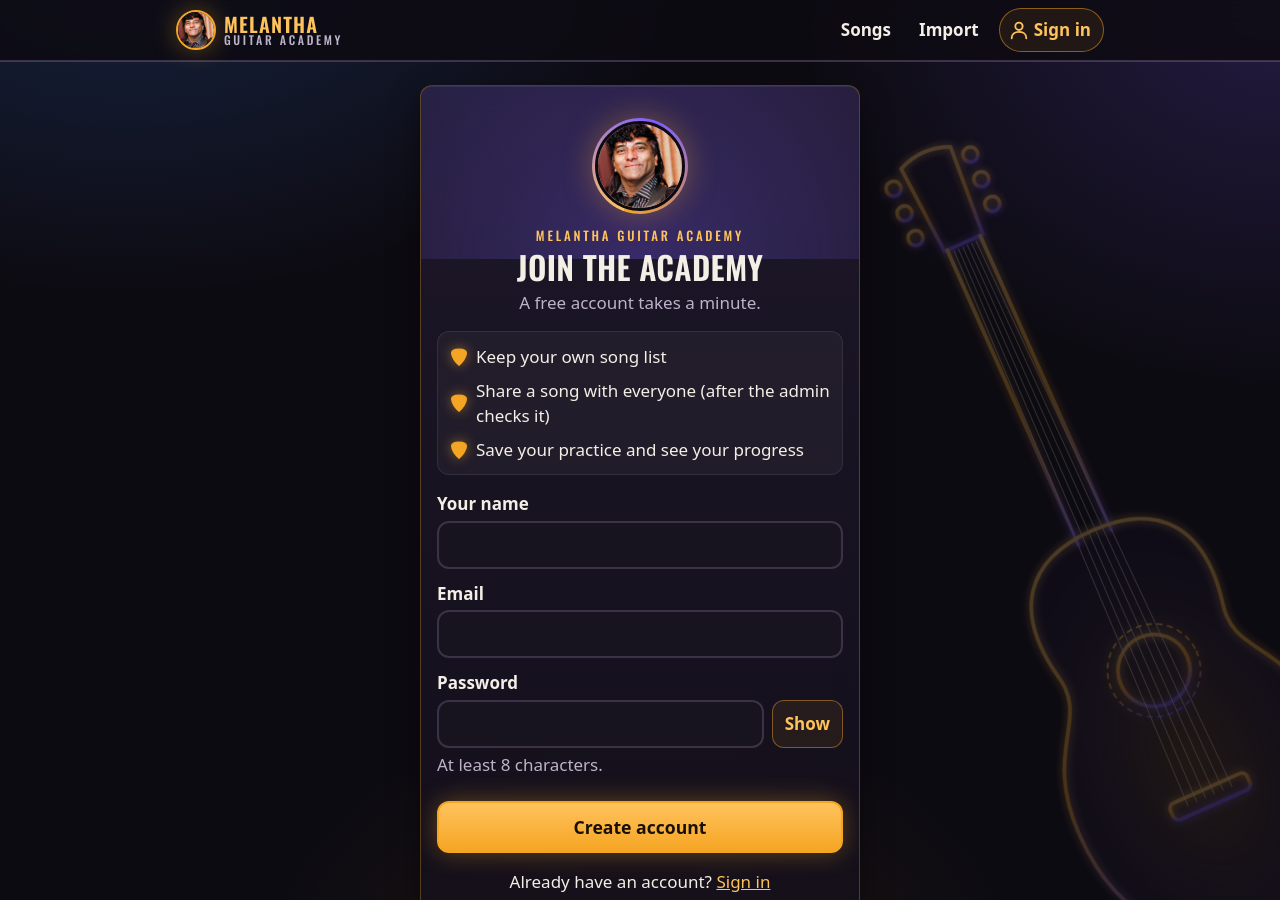
accounts › an email that already has an account: says so and offers Sign in
The image size is (1280, 900).
Type "Isura" into the field labelled "Your name" at (640, 545), box [437, 521, 843, 569]
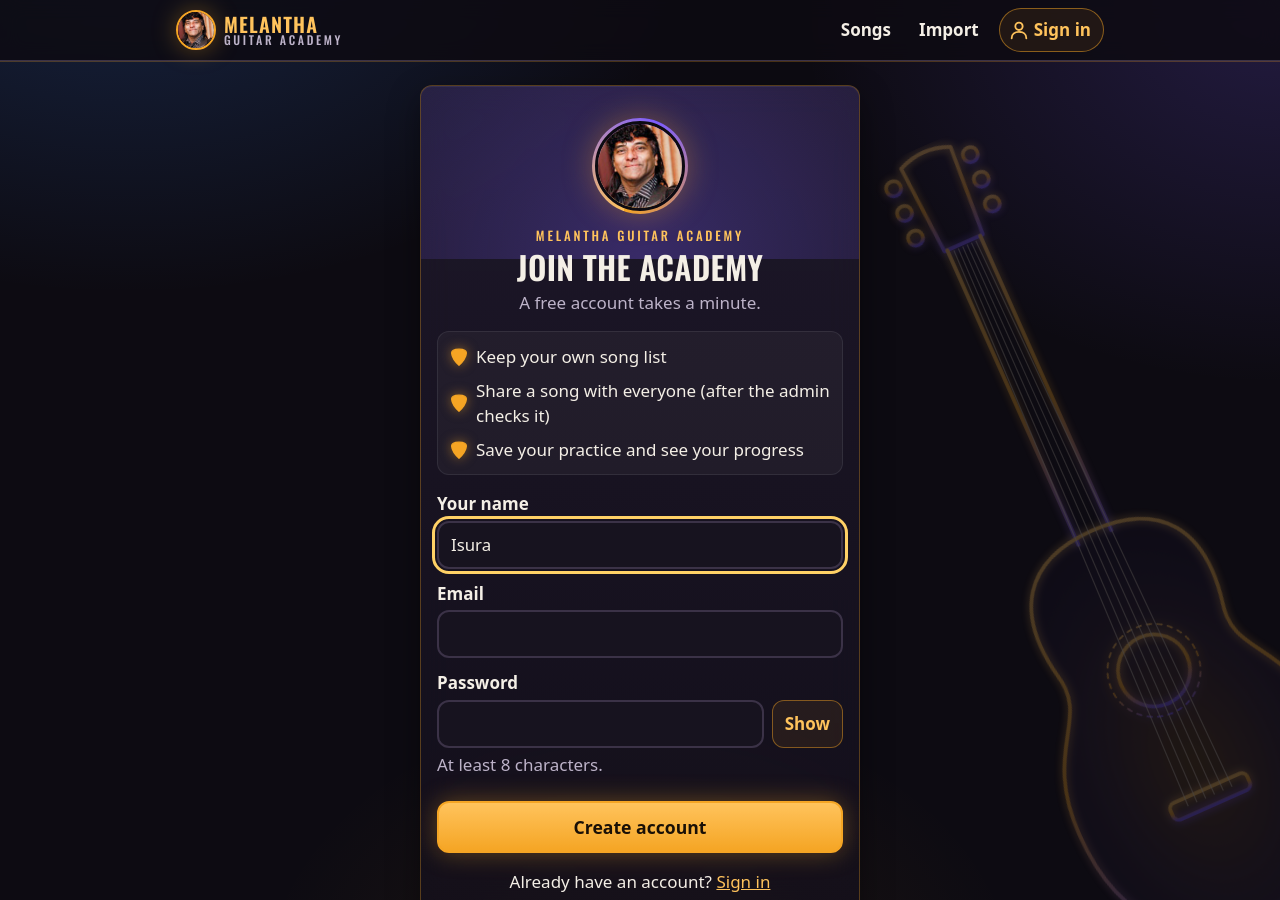
Type "isura@example.com" into the field labelled "Email" at (640, 634), box [437, 610, 843, 658]
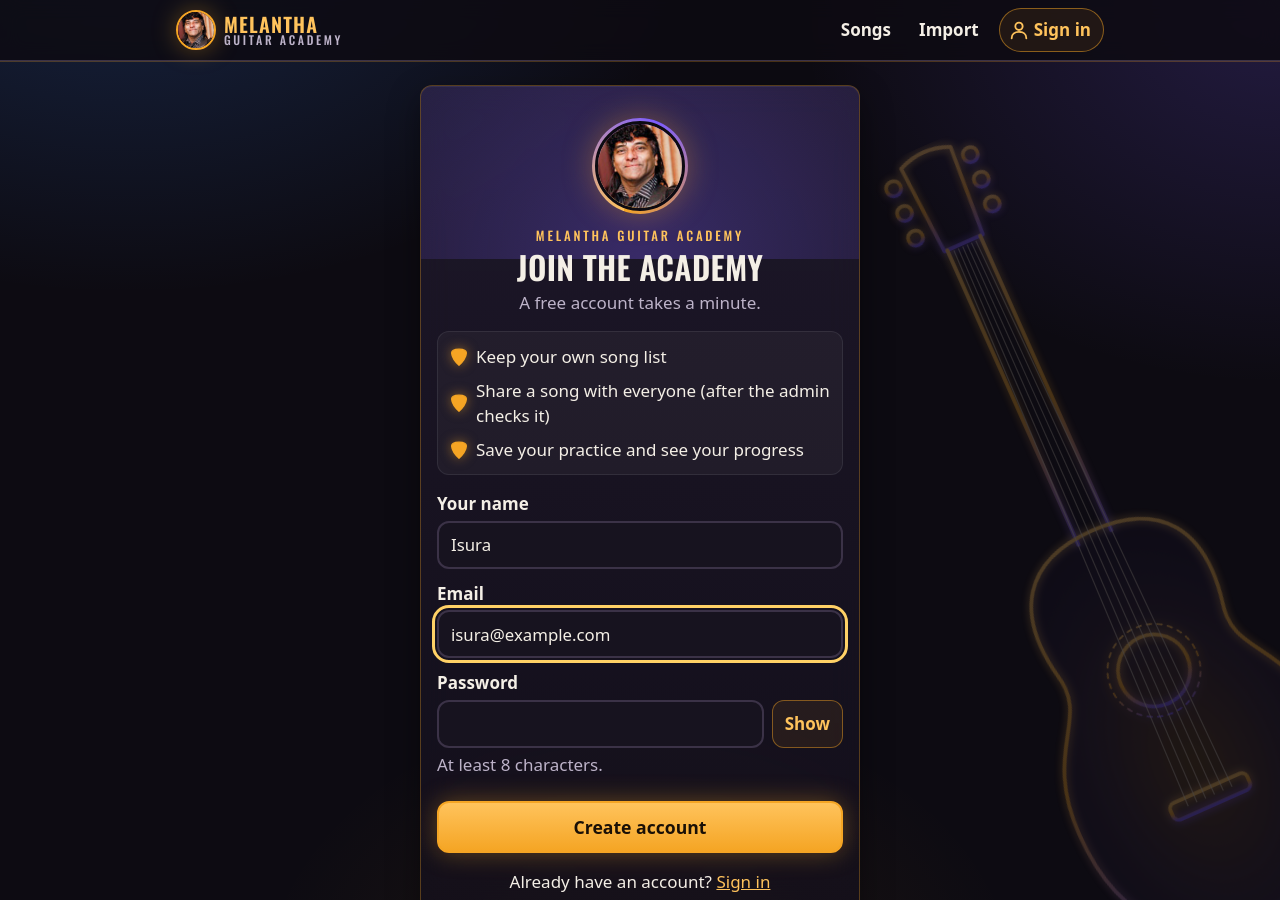
Type "guitar-123" into the password field labelled "Password" at (600, 724), box [437, 700, 764, 748]
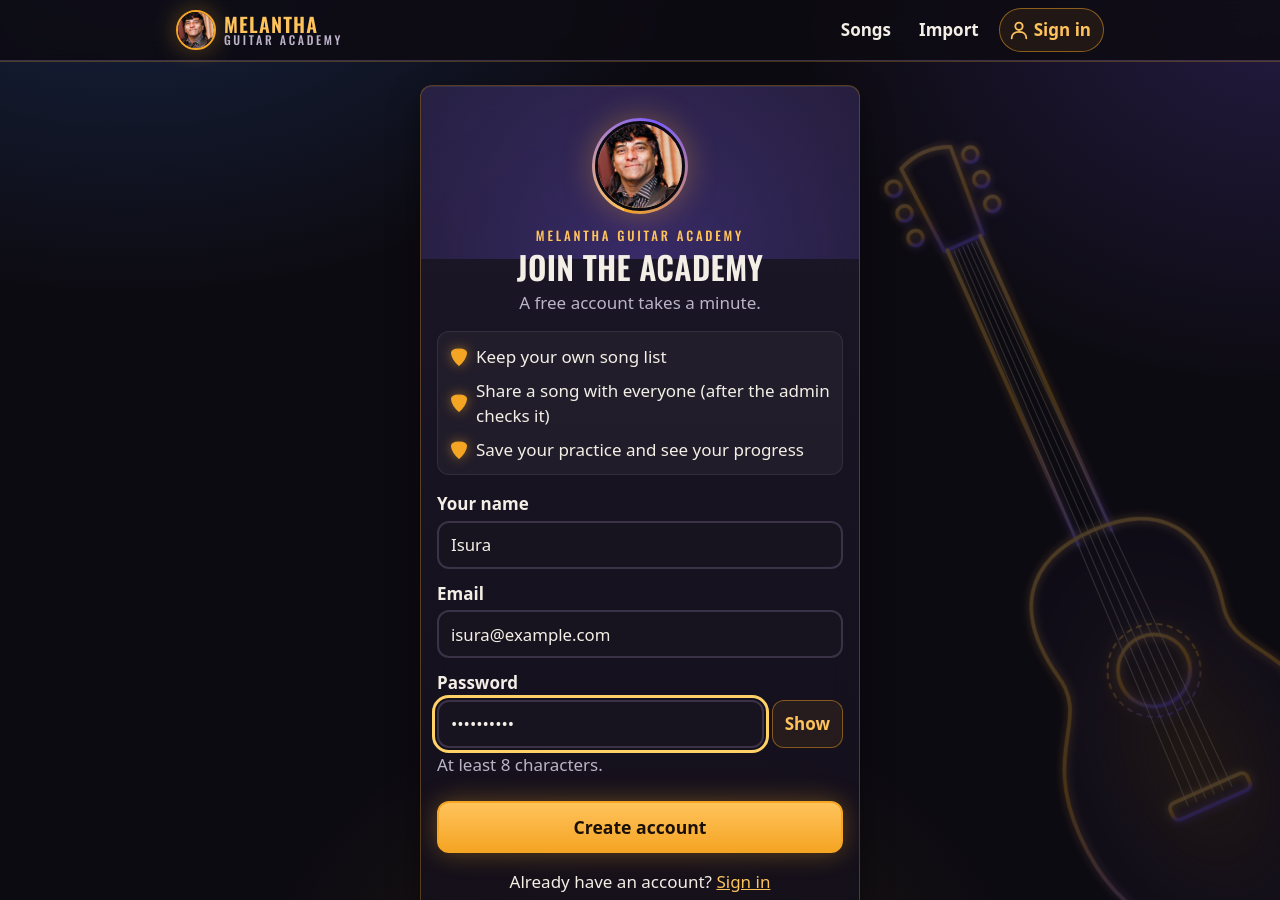
Click the button "Create account" at (640, 828), box [437, 802, 843, 854]
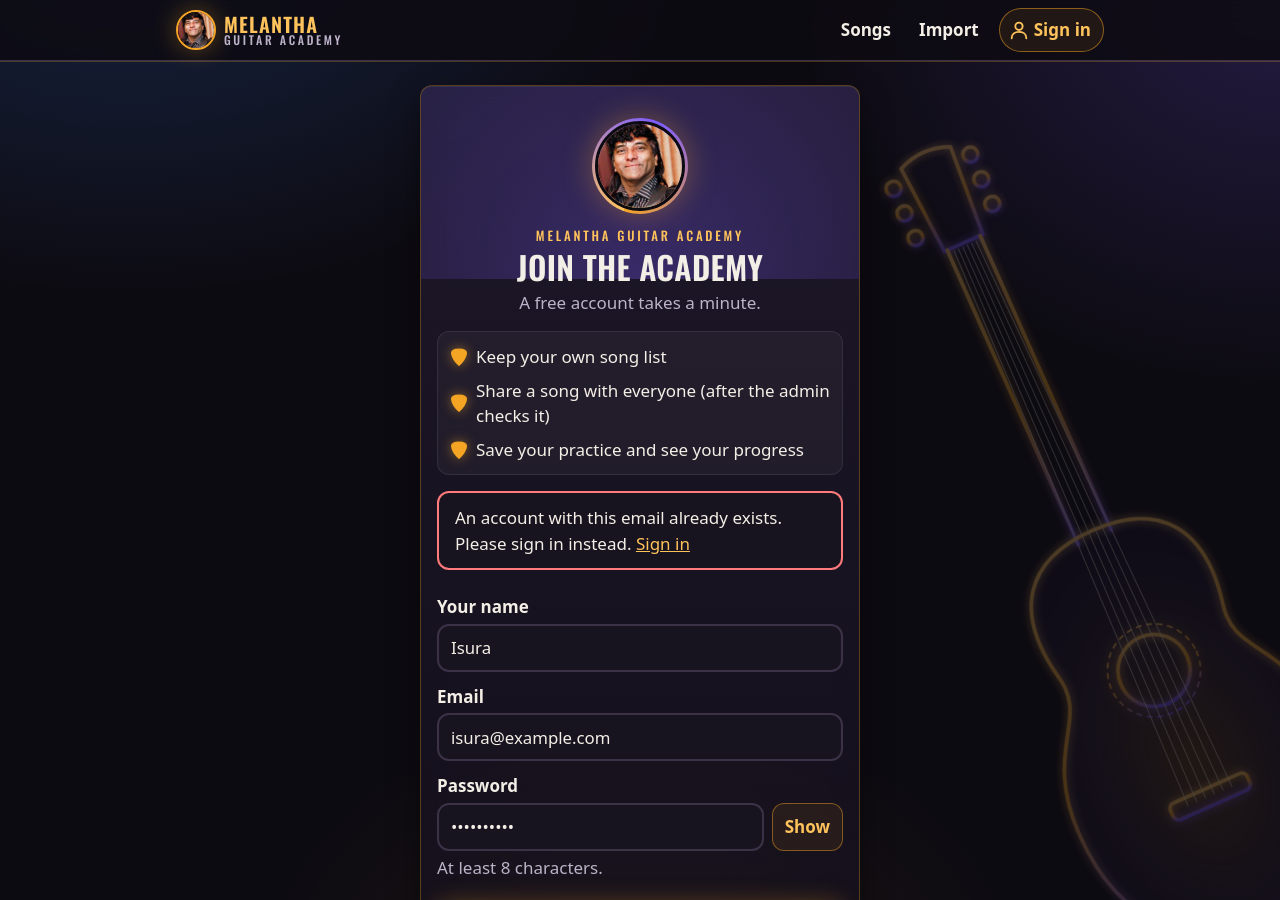
Check: the message shows "An account with this email already exists.", box [455, 506, 782, 555]
Check: the link "Sign in" below "Save your practice and see your progress" is shown, box [636, 532, 690, 555]
